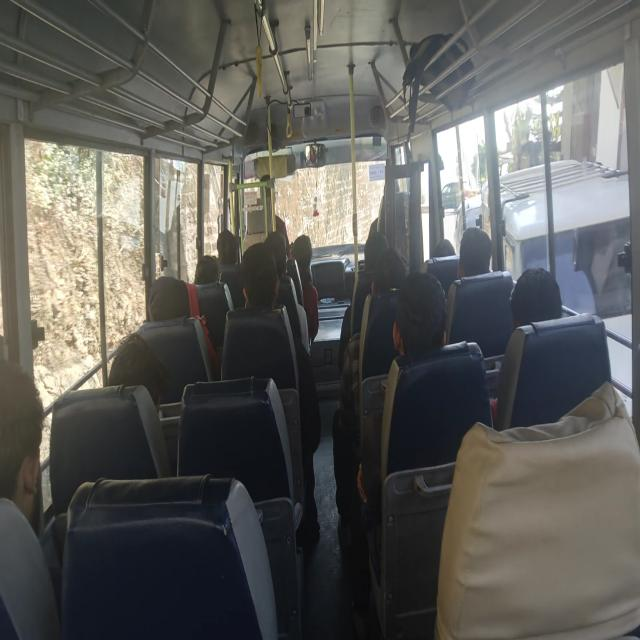person: (434, 380, 639, 638), (356, 271, 493, 634), (222, 241, 321, 542), (332, 246, 408, 549), (357, 270, 448, 507), (0, 358, 62, 638), (490, 265, 562, 425), (0, 358, 44, 532), (338, 229, 388, 369), (263, 230, 310, 352), (445, 226, 492, 344), (392, 270, 447, 360), (510, 266, 562, 330), (291, 234, 319, 344), (457, 226, 492, 278), (216, 229, 239, 265), (194, 254, 220, 285)
